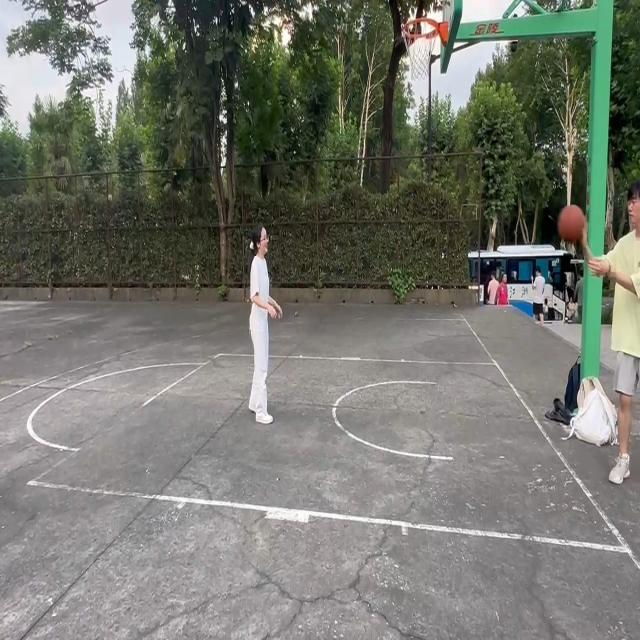basketball: (400, 16, 447, 90)
rim: (559, 204, 586, 243)
